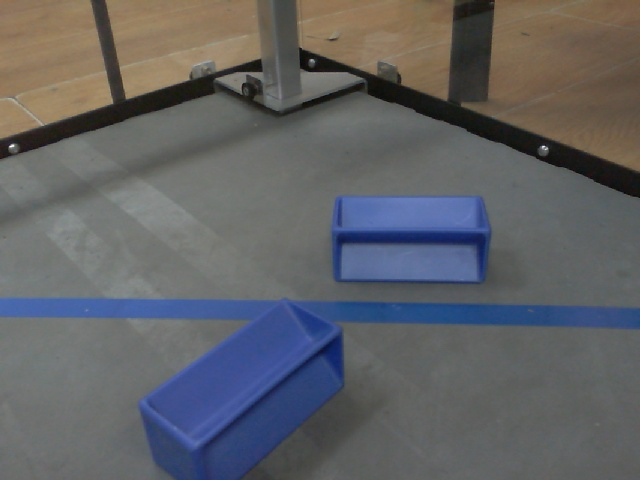BlueSample: (133, 291, 354, 479), (329, 193, 493, 288)
